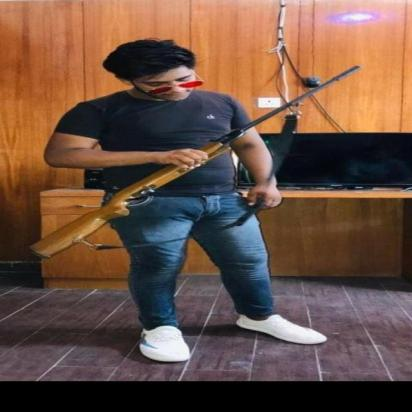Gun: (25, 64, 365, 260)
